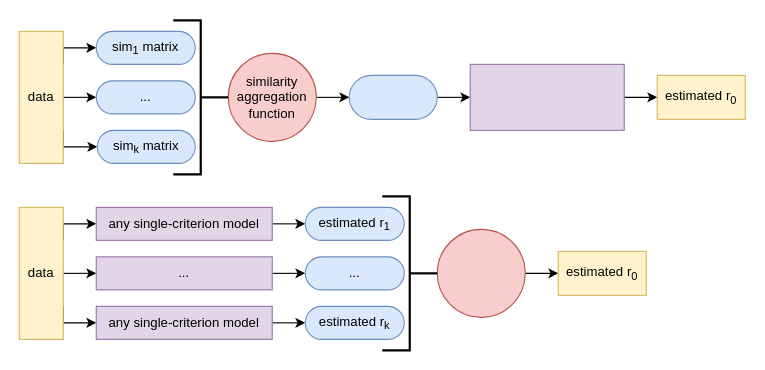
The diagram is 765 pixels wide and 370 high, and some of its shapes have lost their labels. The shapes that lost their labels are listed below. From the top down, each one's centre as x and y in pixels, then its label:
(392,96): sim 0 matrix
(546,96): any single-criterion similarity-based model
(480,272): rating aggregation function
